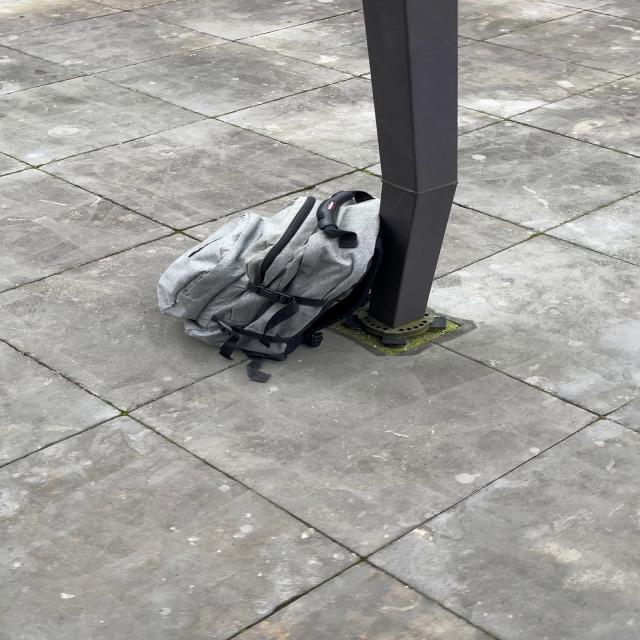backpack: (143, 180, 388, 364)
